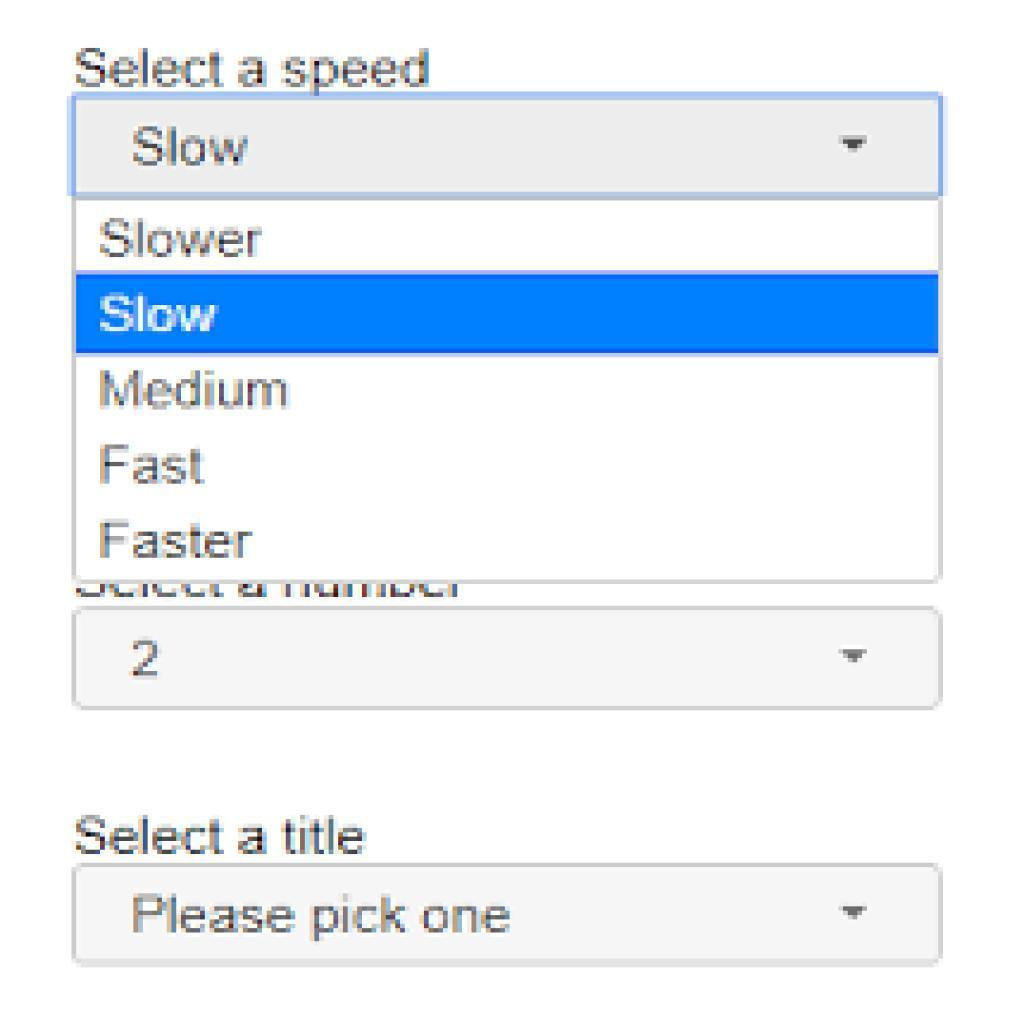button: (76, 273, 939, 355)
dropdown: (70, 92, 946, 199), (72, 863, 945, 968), (76, 607, 944, 711)
